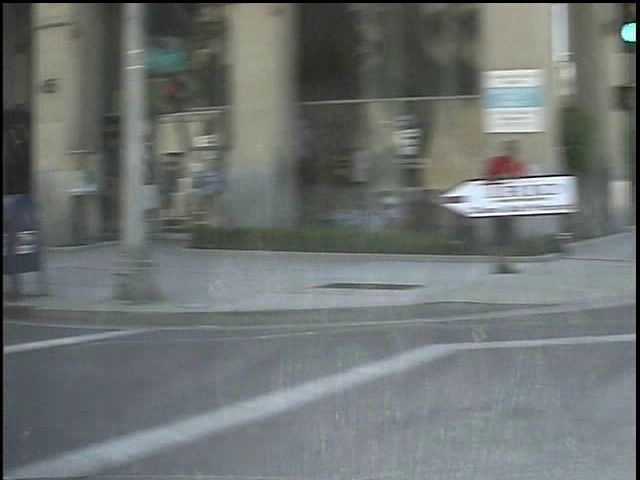person: (469, 131, 513, 282)
